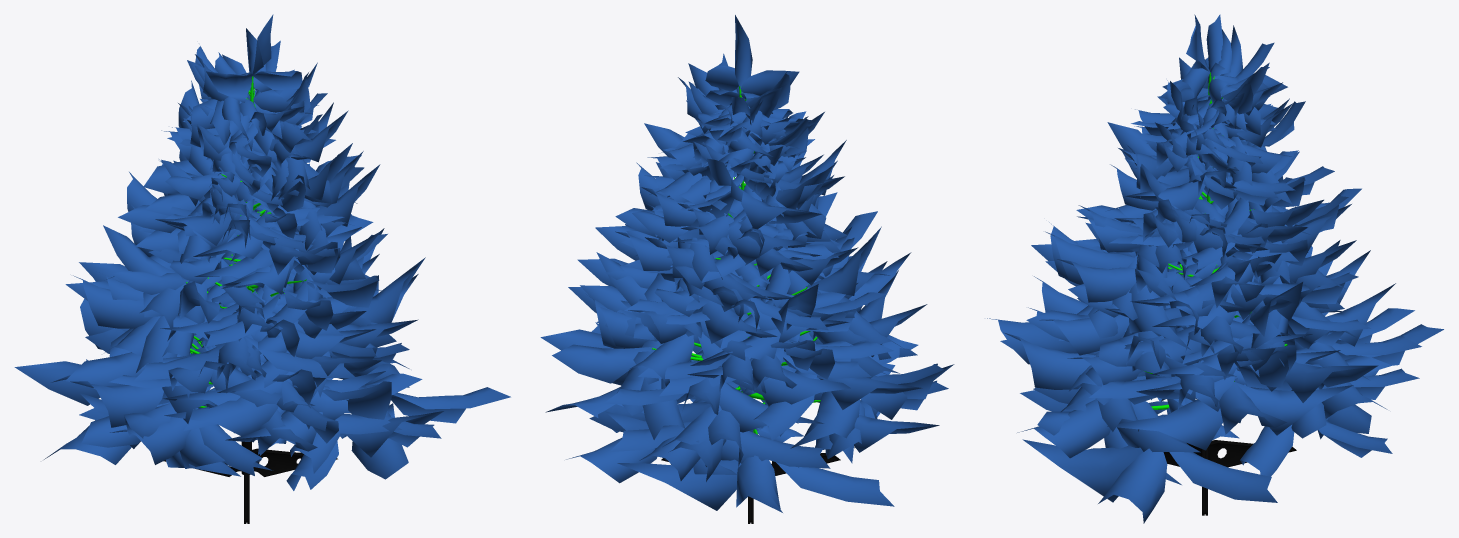
The model's file is conifer_01_comp.fbx.
3 renders of one model, left to right at view 1: azimuth 30°, elevation 25°; view 2: azimuth 150°, elevation 25°; view 3: azimuth 270°, elevation 25°, orthographic. The views are drawn at different scales.
Visible parts, largest first — view 1: conifer1; view 2: conifer1; view 3: conifer1.
Boxes of the visible parts, left/top/right/bottom form: conifer1: left=14, top=14, right=510, bottom=523; conifer1: left=540, top=15, right=954, bottom=523; conifer1: left=987, top=14, right=1443, bottom=523.
Bounding box in the file's own units: 180 × 200 × 179.
